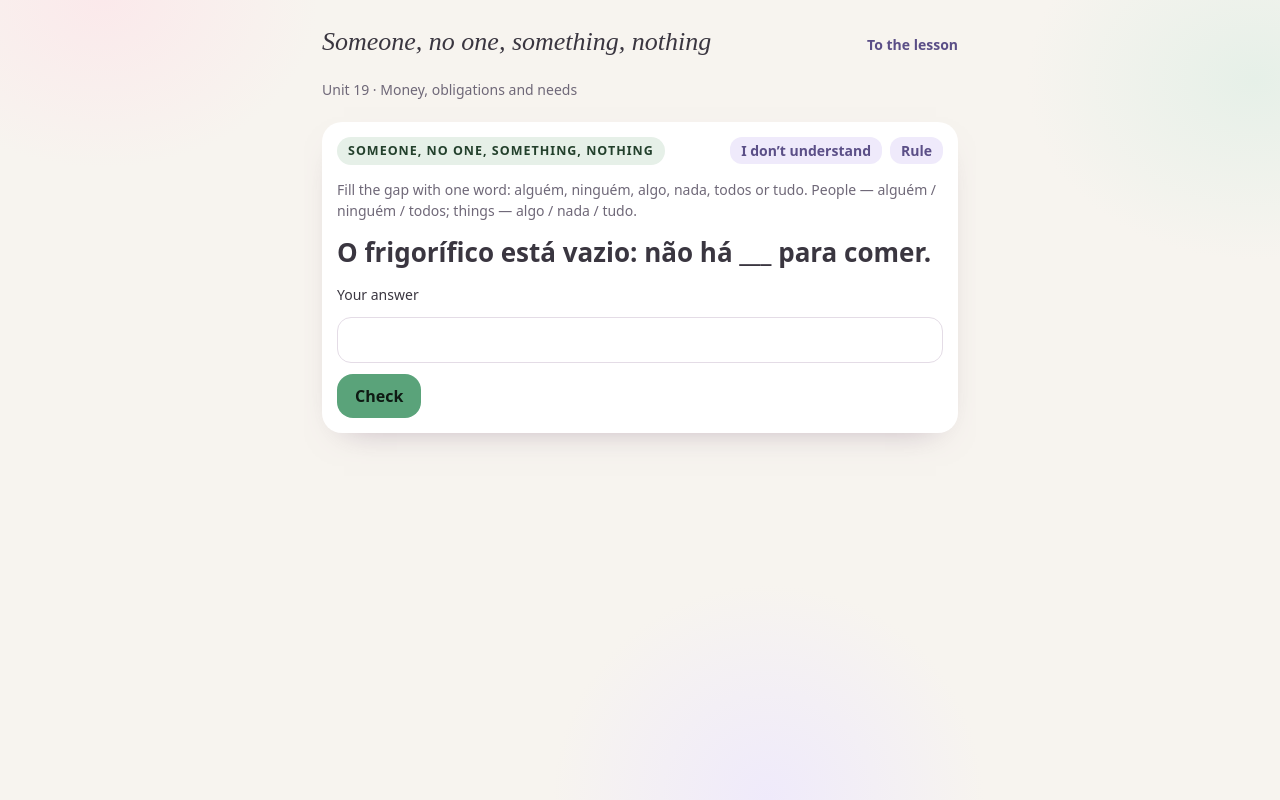
"I don't understand" help › opens the word meanings without checking, then the answer counts as helped
Type "na" into the field with test id "pack-drill-answer" at [640, 340], box 337,316 -> 943,362
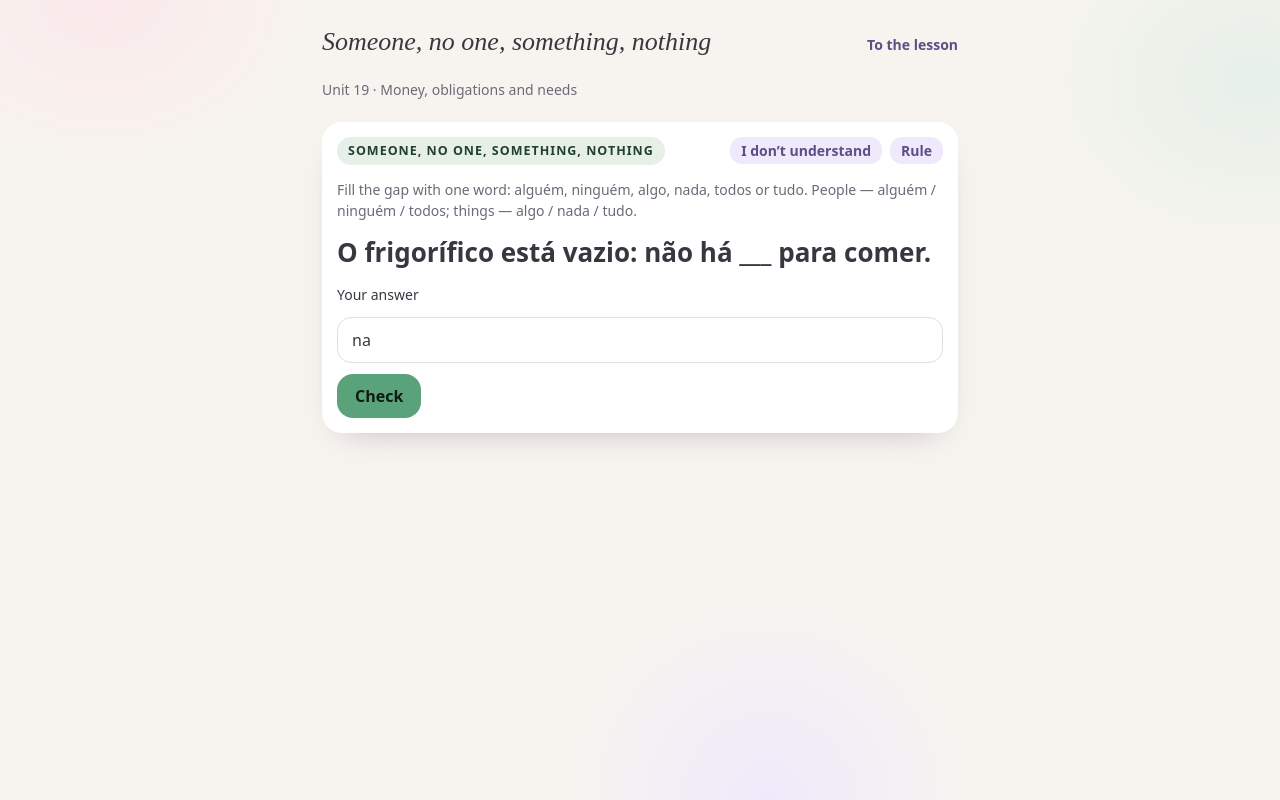
Click the button with test id "pack-drill-help" at [806, 151], box 730,138 -> 882,164
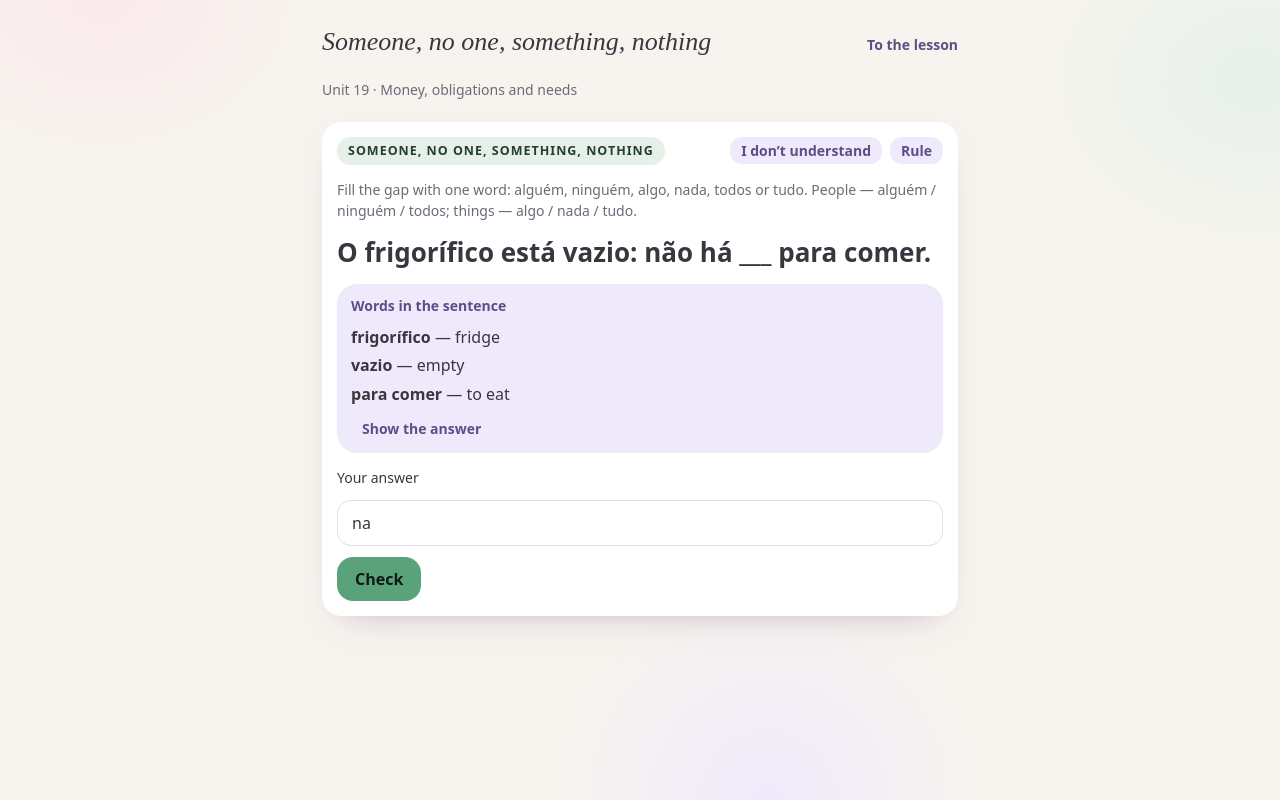
Expected: the element with test id "pack-drill-glosses" does not show "nothing", 337,284 -> 943,453
Expected: the element with test id "pack-drill-glosses" shows "frigorífico — fridge", 337,284 -> 943,453
Expected: the element with test id "pack-drill-glosses" shows "vazio — empty", 337,284 -> 943,453
Replace the text in the field with test id "pack-drill-answer" with "nada" at [640, 523], box 337,500 -> 943,546
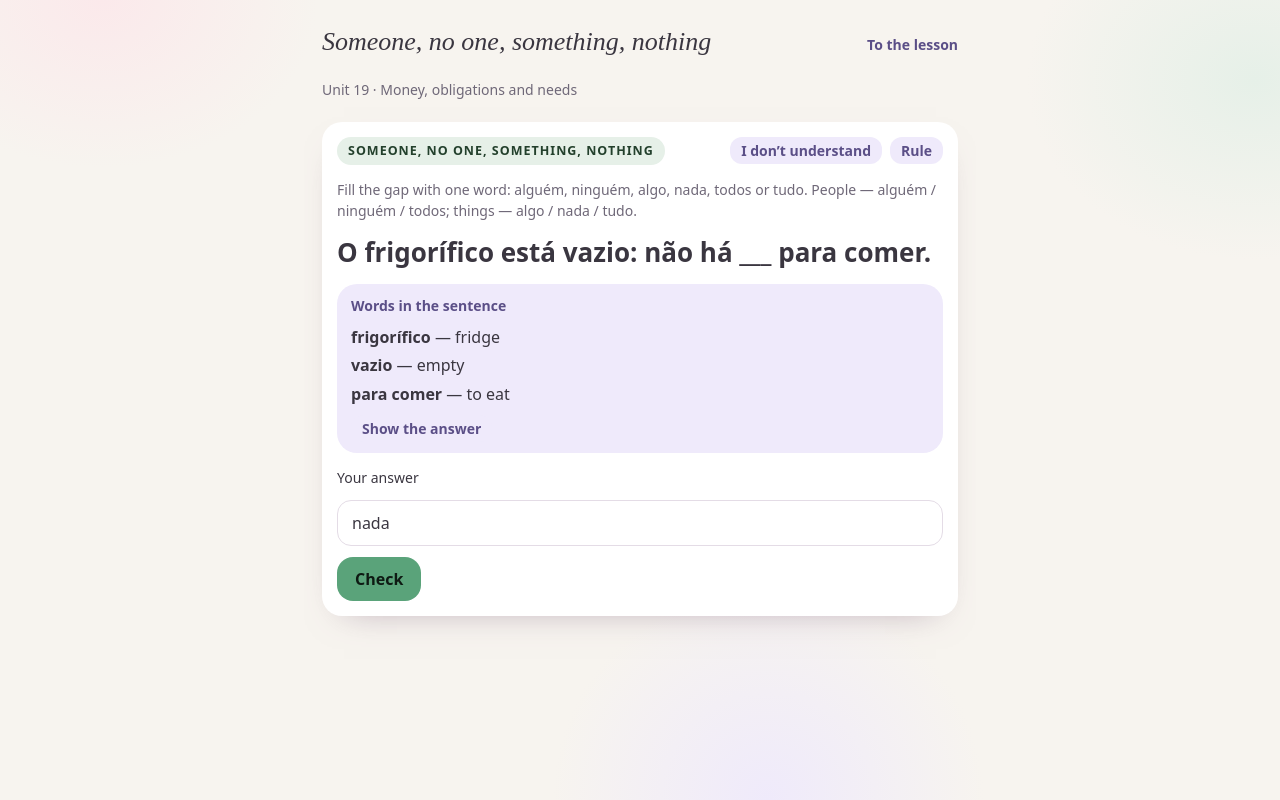
Click the button "Check" at [379, 579], box 337,557 -> 421,601
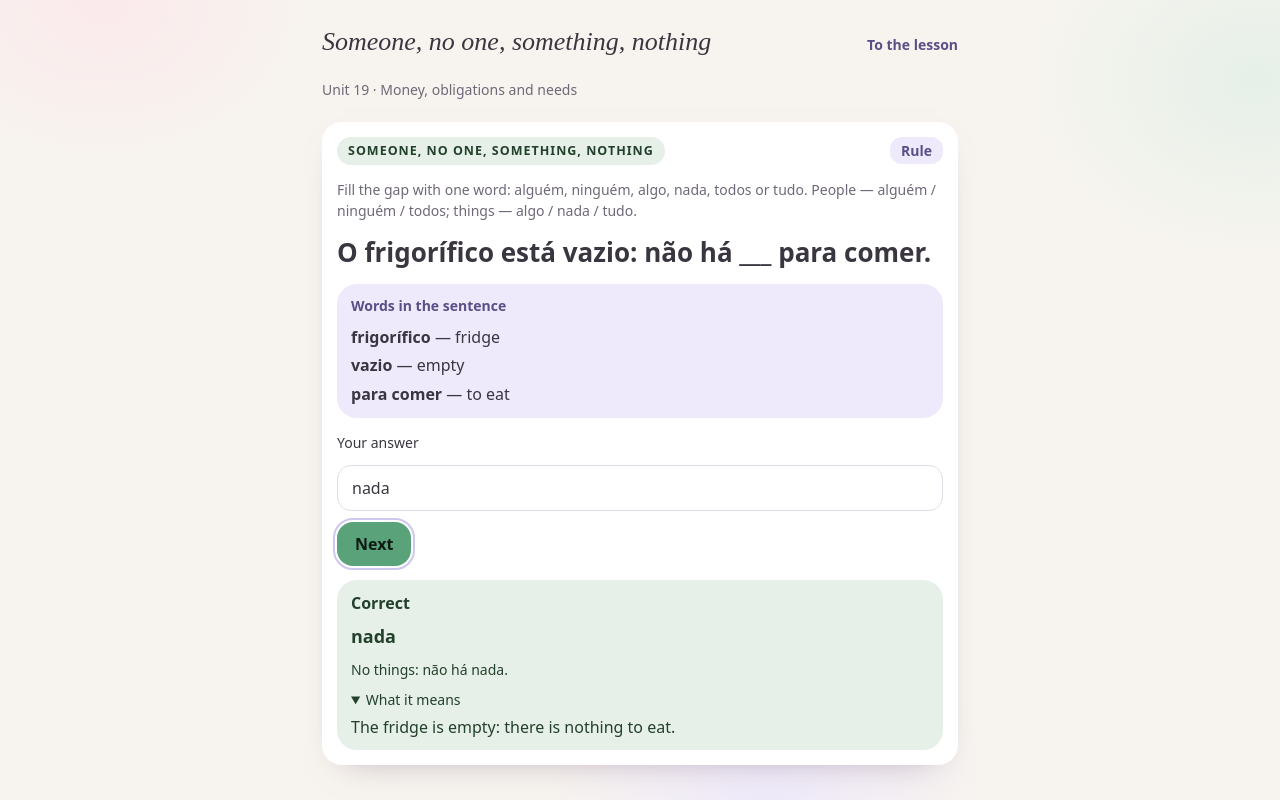
Expected: the message with test id "pack-drill-feedback" is shown, 337,580 -> 943,750
Expected: the element with test id "pack-drill-meaning" shows "The fridge is empty: there is nothing to eat.", 351,716 -> 675,738
